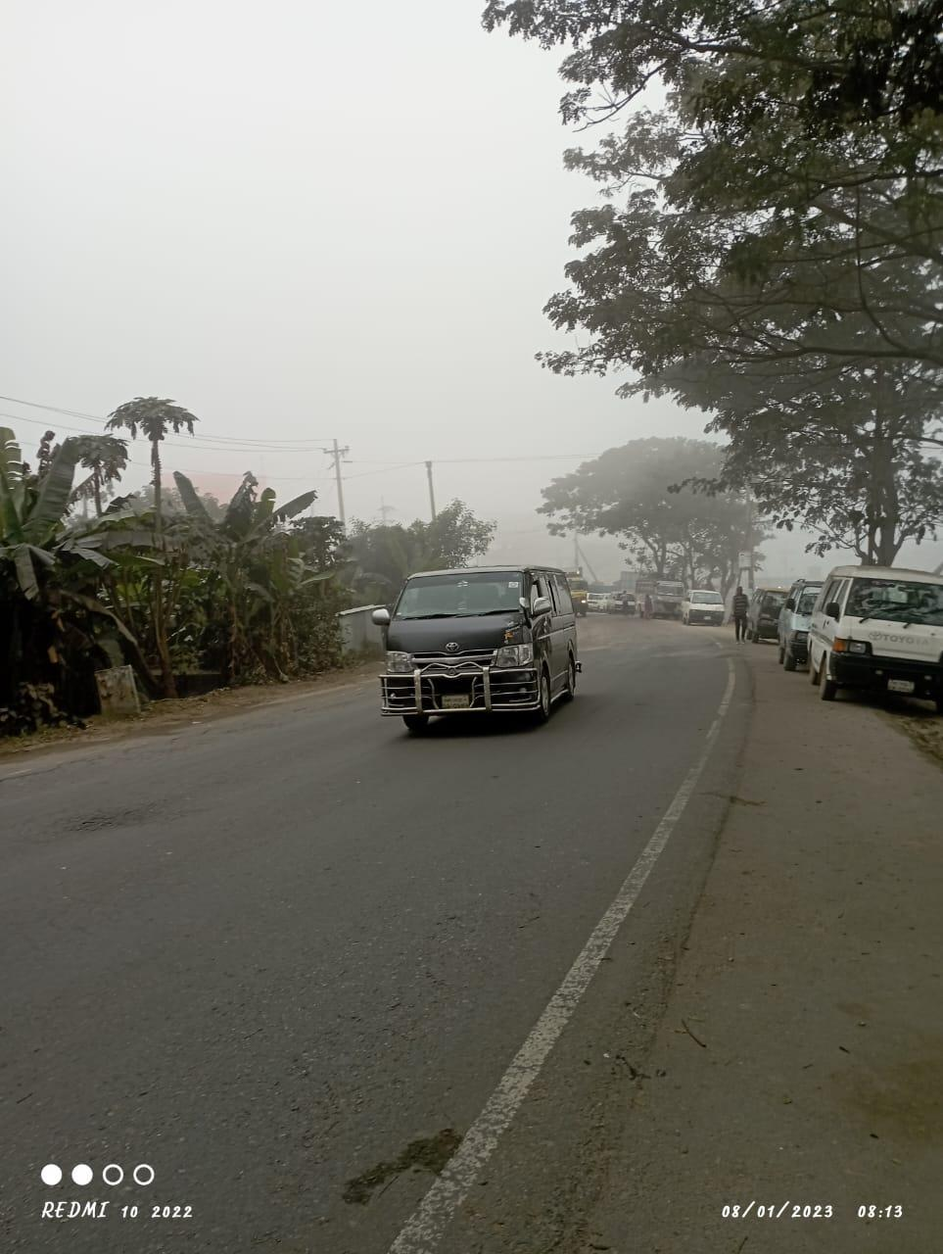Bus: (631, 568, 676, 624)
Car: (376, 561, 589, 724), (808, 549, 943, 720), (742, 576, 784, 644), (679, 581, 731, 624)
